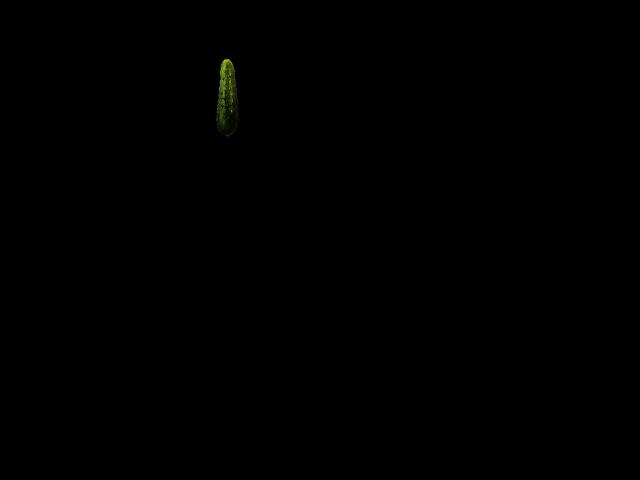cucumber: (216, 59, 240, 136)
